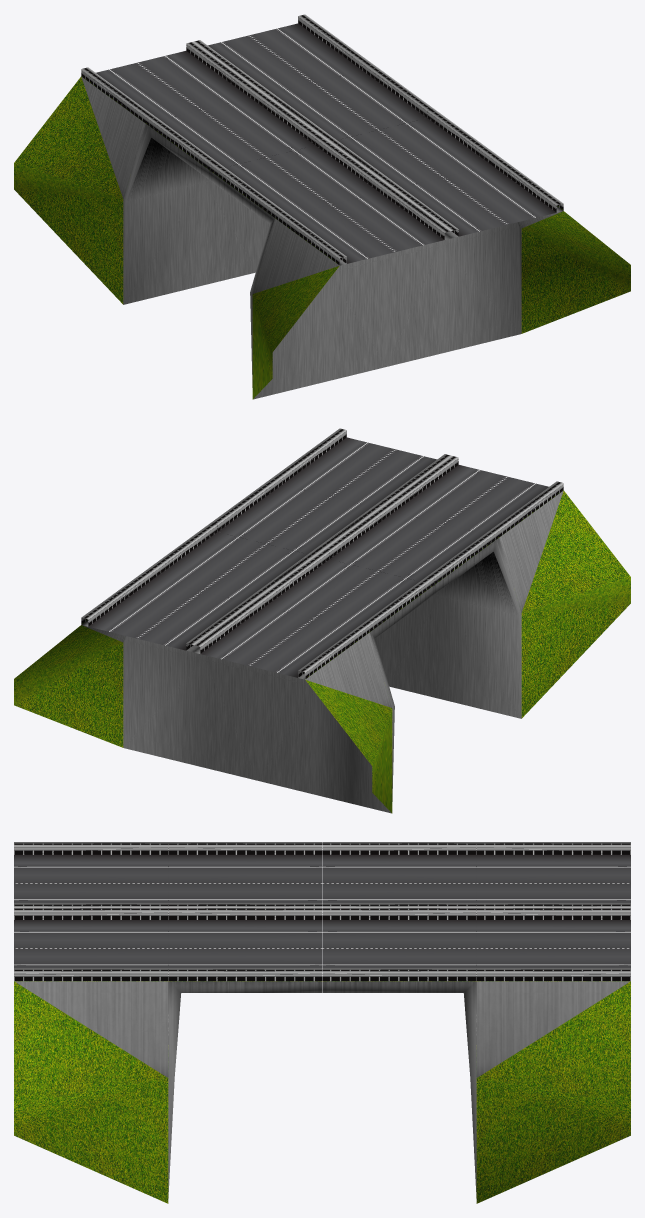
The model's file is brug_snelweg_1a_met_talud.fbx.
3 renders of one model, top to bottom at view 1: azimuth 30°, elevation 25°; view 2: azimuth 150°, elevation 25°; view 3: azimuth 270°, elevation 25°, orthographic. The views are drawn at different scales.
Visible parts, largest first — view 1: brug_snelweg_1a; view 2: brug_snelweg_1a; view 3: brug_snelweg_1a.
Part boxes in pixels (bbox=[...]): brug_snelweg_1a: bbox=[14, 14, 630, 399]; brug_snelweg_1a: bbox=[14, 428, 630, 813]; brug_snelweg_1a: bbox=[14, 842, 630, 1203].
Bounding box in the file's own units: 3200 × 1563 × 4001.
